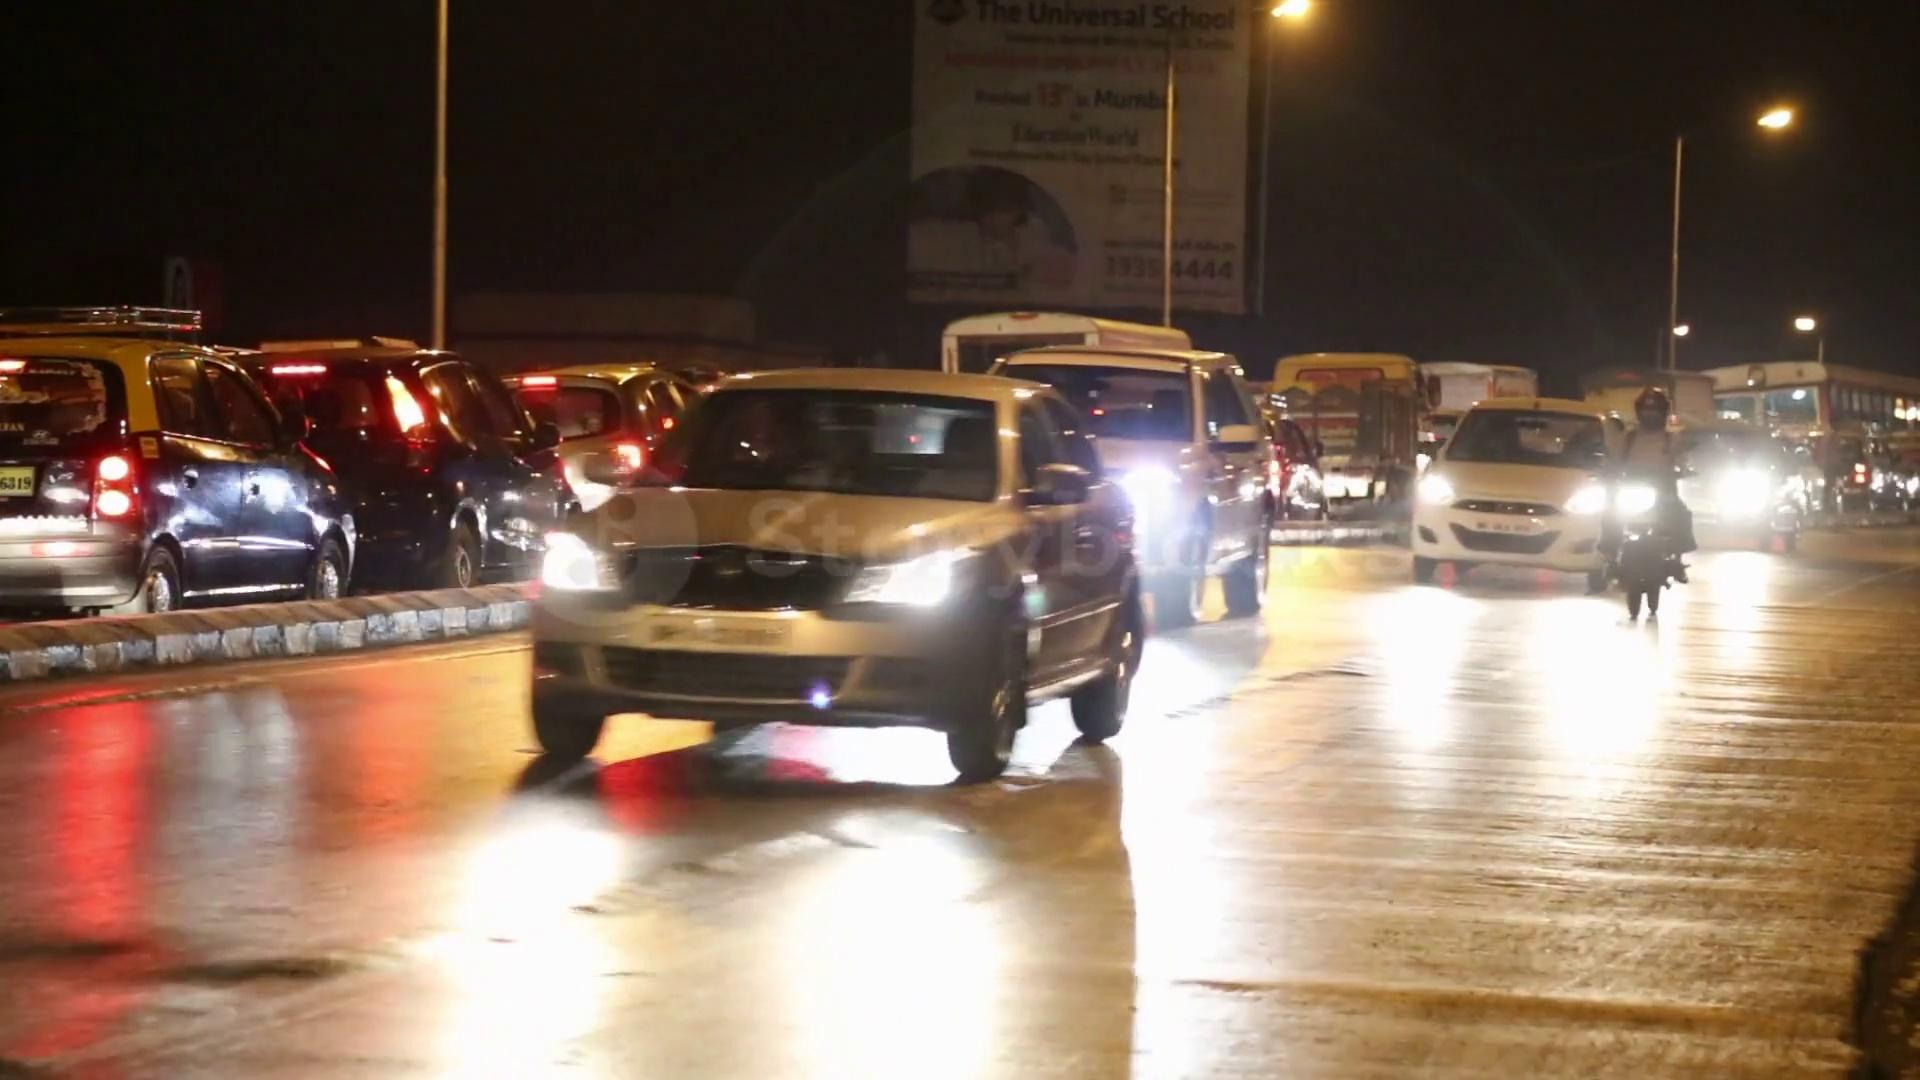rider: (1595, 385, 1697, 622)
